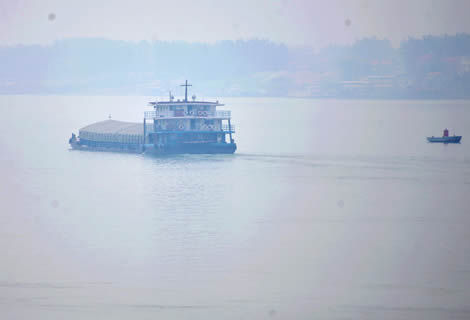boat: (65, 87, 243, 156)
